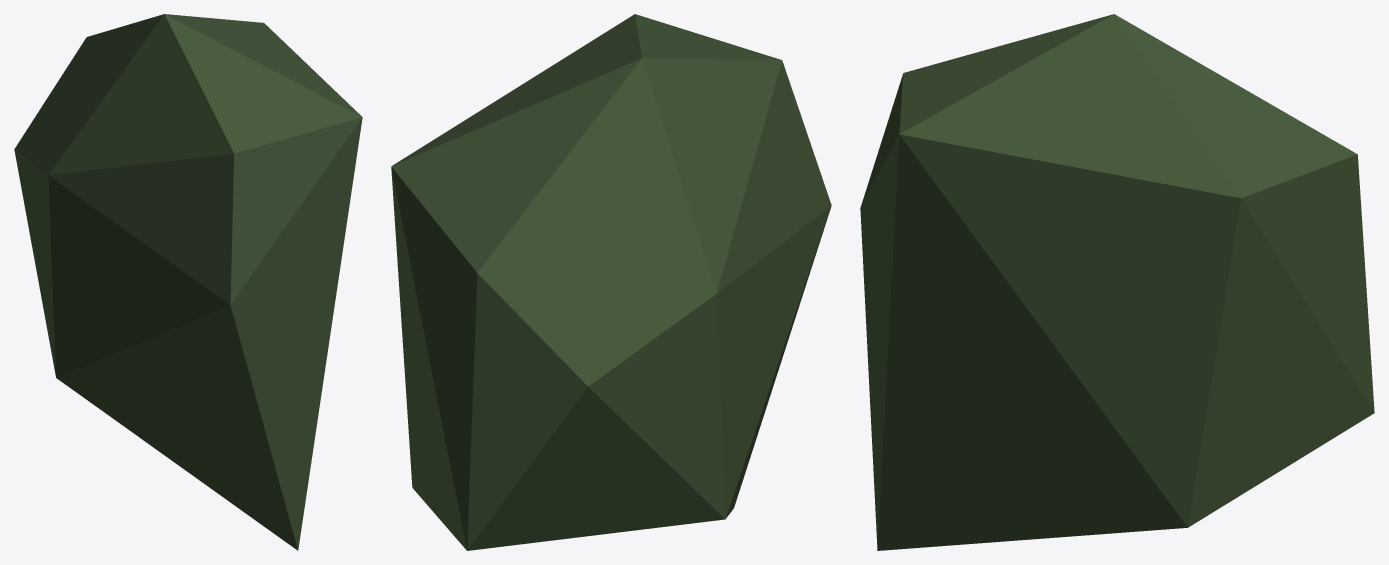
The model's file is Willow_2.lod4.glb.
The picture shows the model from 3 angles, left to right: view 1: azimuth 30°, elevation 25°; view 2: azimuth 150°, elevation 25°; view 3: azimuth 270°, elevation 25°; orthographic projection. The views are drawn at different scales.
Visible parts, largest first — view 1: Willow_2; view 2: Willow_2; view 3: Willow_2.
Boxes of the visible parts, x1,y1,x2,y2 form: Willow_2: [14, 14, 362, 550]; Willow_2: [391, 14, 831, 550]; Willow_2: [860, 14, 1374, 550].
Bounding box in the file's own units: 1.98 × 3.5 × 3.12.
